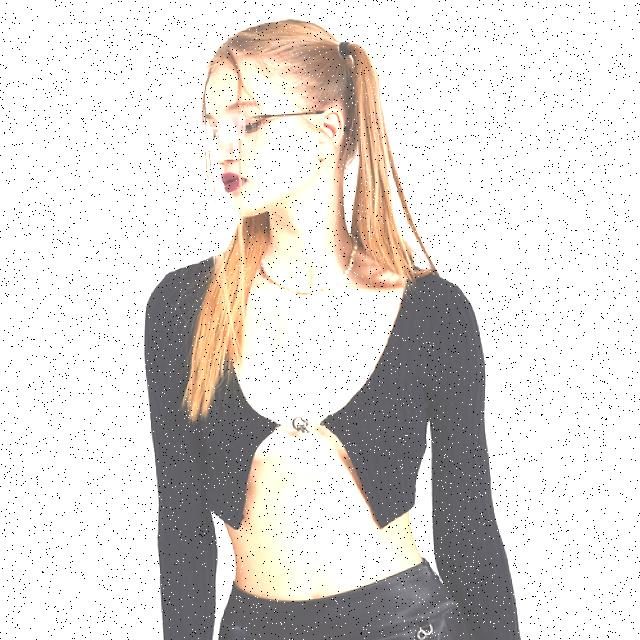dress: (145, 251, 522, 640)
